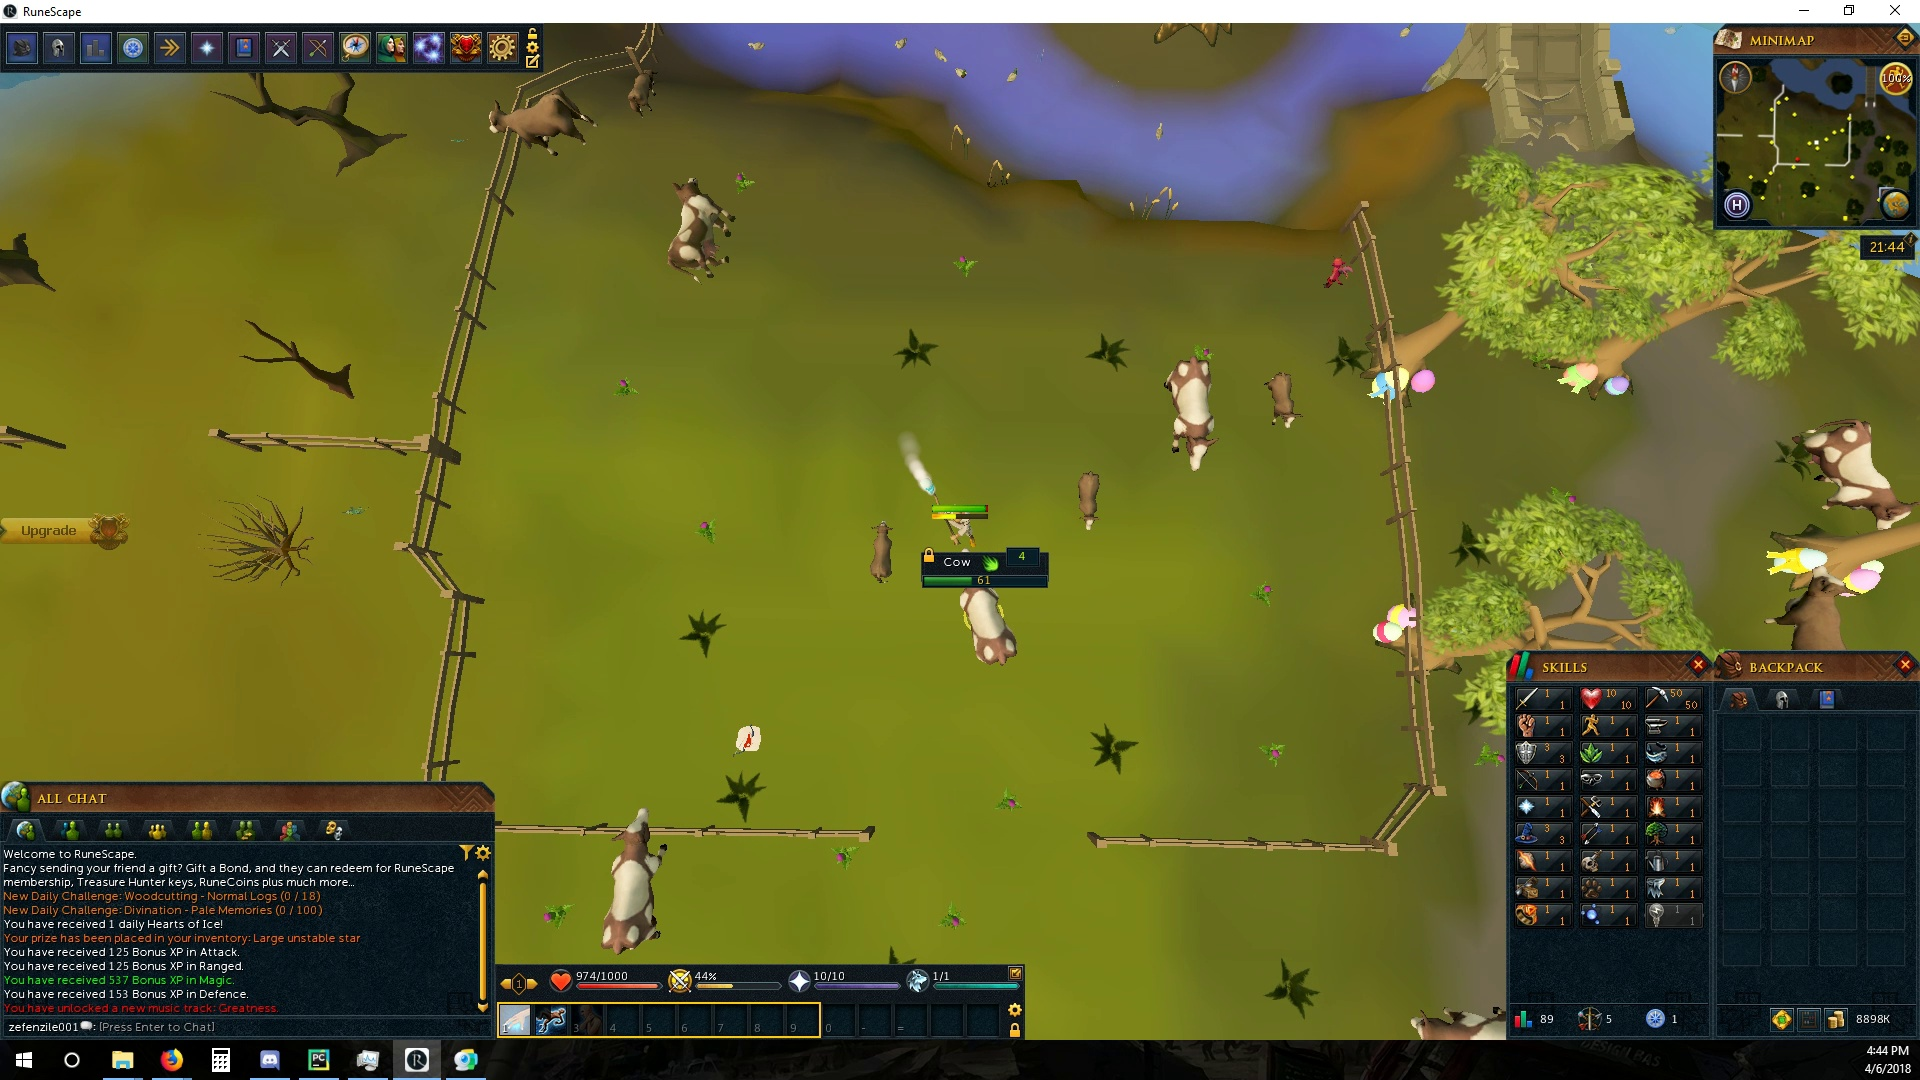calf: (1263, 371, 1305, 434), (868, 521, 897, 585), (626, 69, 665, 117), (1073, 469, 1102, 531)
cow: (1793, 418, 1919, 535), (596, 804, 669, 959), (487, 86, 600, 164), (663, 174, 737, 287), (1760, 560, 1853, 650), (1164, 357, 1222, 477), (949, 587, 1021, 669)
cow_drop: (731, 723, 765, 757)
